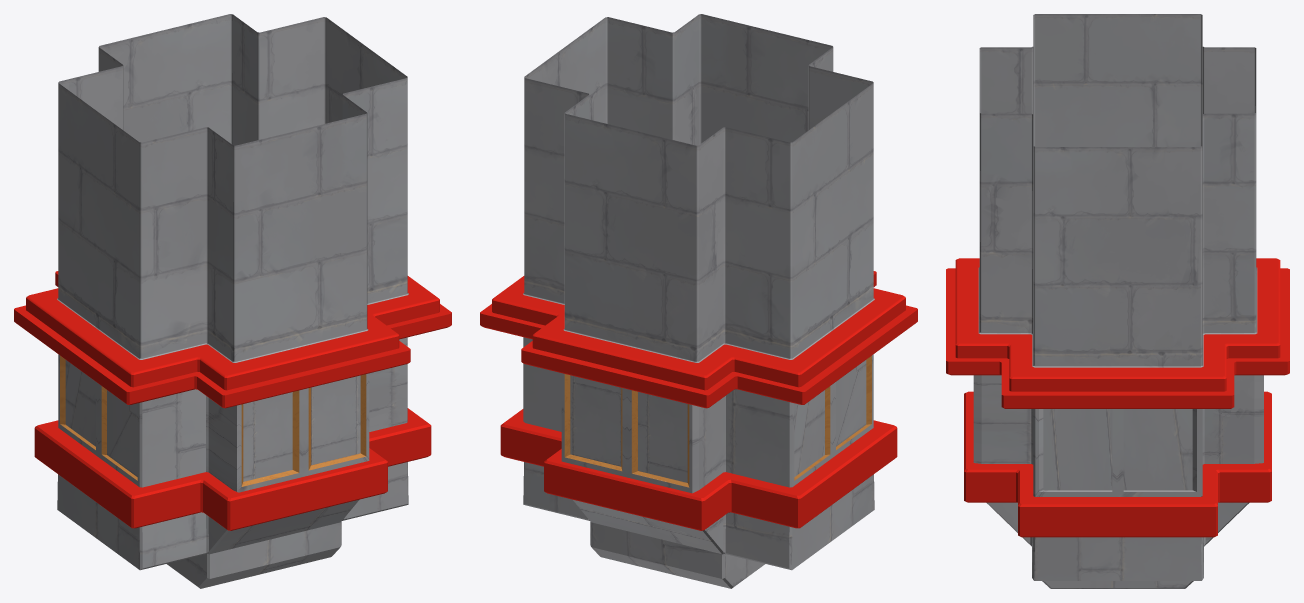
Rendered from SM_WallArchColumnBottom.fbx.
3 views of the same model, side by side, from view 1: azimuth 30°, elevation 25°; view 2: azimuth 150°, elevation 25°; view 3: azimuth 270°, elevation 25° (orthographic).
Parts seen in each view (by area): view 1: SM_WallArchColumnBottom; view 2: SM_WallArchColumnBottom; view 3: SM_WallArchColumnBottom.
Part boxes in pixels (x1,y1,x2,y2): SM_WallArchColumnBottom: (14,14,451,588); SM_WallArchColumnBottom: (480,14,917,588); SM_WallArchColumnBottom: (946,14,1289,588).
Bounding box in the file's own units: 1.8 × 2.48 × 1.62.
